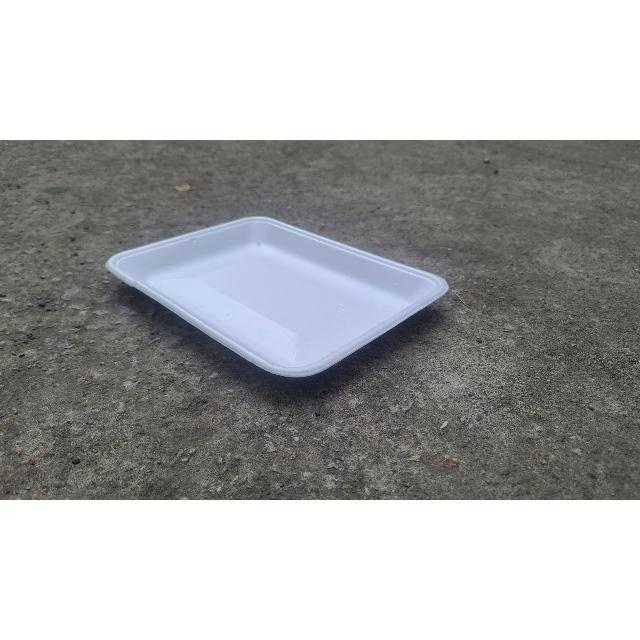Recipiente plastico: (108, 216, 448, 377)
